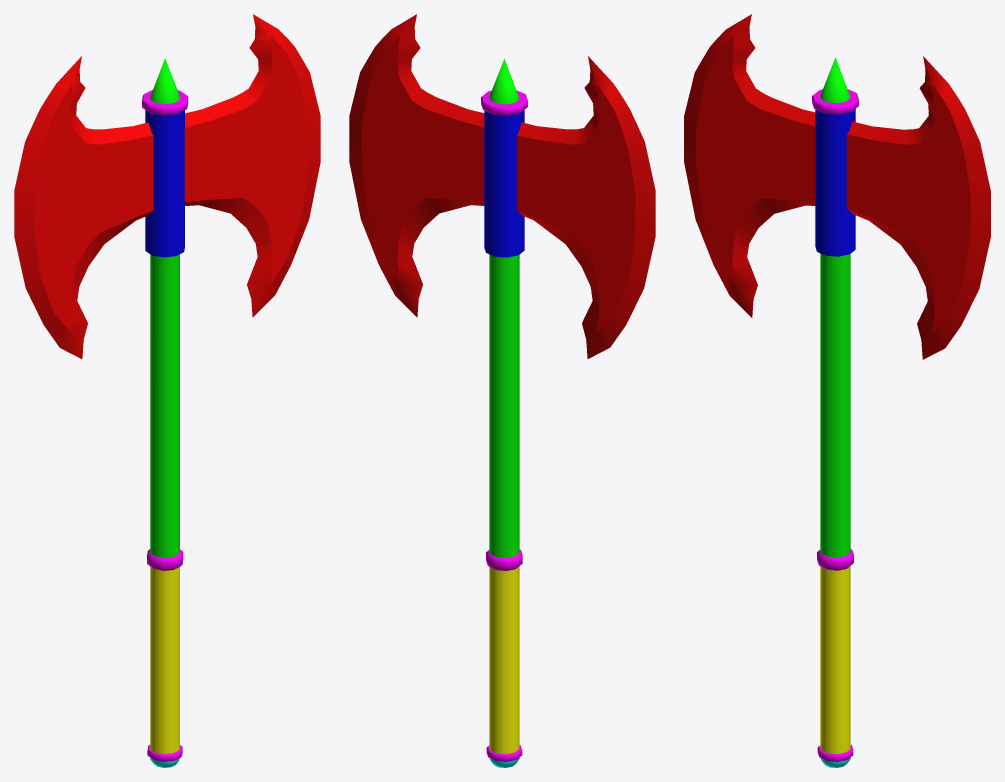
The model's file is MSH_Hacha1_MID_Isaac.FBX.
3 renders of one model, left to right at view 1: azimuth 30°, elevation 25°; view 2: azimuth 150°, elevation 25°; view 3: azimuth 330°, elevation 25°, orthographic.
Parts seen in each view (by area): view 1: Hacha_1; view 2: Hacha_1; view 3: Hacha_1.
Boxes of the visible parts, x1,y1,x2,y2 form: Hacha_1: (14, 14, 320, 767); Hacha_1: (349, 14, 655, 767); Hacha_1: (684, 14, 990, 767).
Bounding box in the file's own units: 55.18 × 126 × 7.45.
